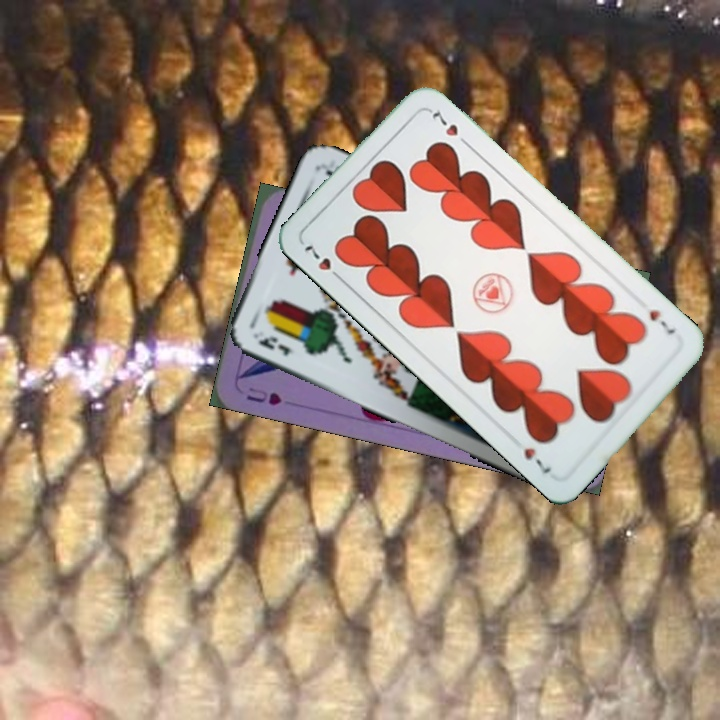EK: (249, 326, 293, 359)
H7: (299, 241, 346, 285), (645, 305, 678, 337)
HU: (242, 383, 284, 408)
